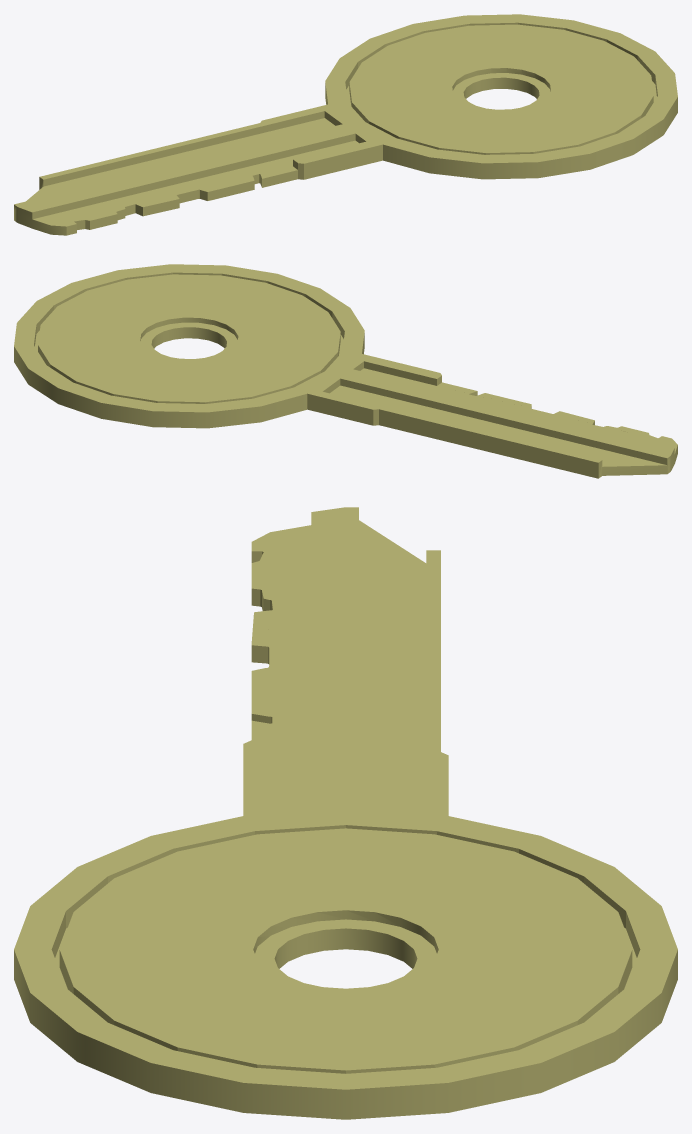
The model's file is KEYFBX.fbx.
3 views of the same model, one above another, from view 1: azimuth 30°, elevation 25°; view 2: azimuth 150°, elevation 25°; view 3: azimuth 270°, elevation 25° (orthographic). The views are drawn at different scales.
Visible parts, largest first — view 1: polySurface7; view 2: polySurface7; view 3: polySurface7.
Part boxes in pixels (bbox=[...]): polySurface7: bbox=[14, 14, 677, 235]; polySurface7: bbox=[14, 264, 677, 478]; polySurface7: bbox=[14, 507, 677, 1119].
Bounding box in the file's own units: 4.15 × 0.0999 × 2.
